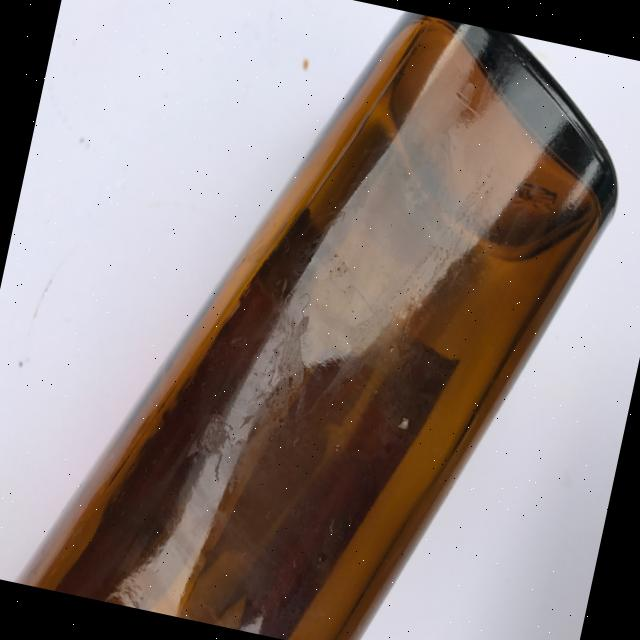glass: (7, 0, 630, 640)
